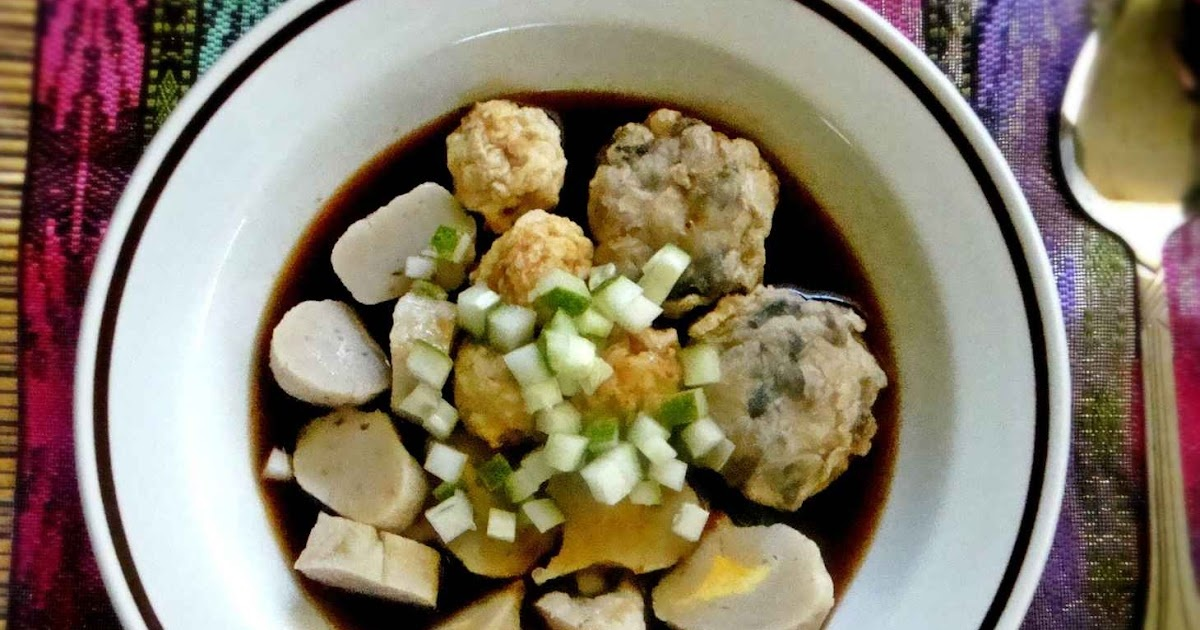pempek: (265, 98, 886, 629)
